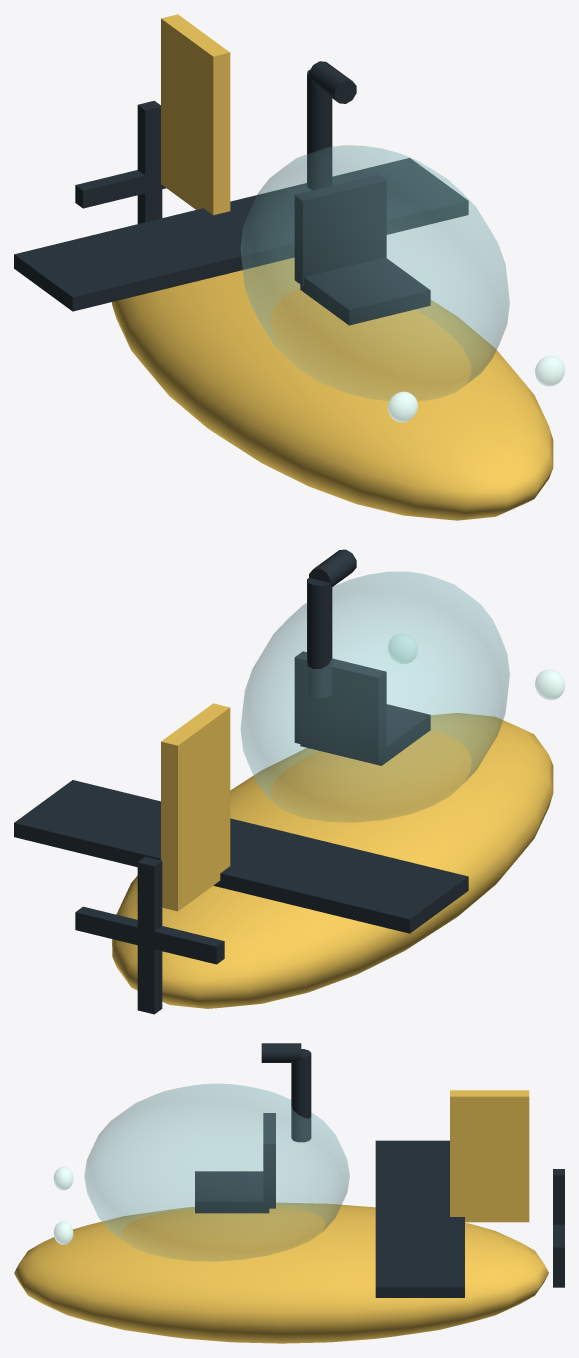
3 renders of one model, top to bottom at view 1: azimuth 30°, elevation 25°; view 2: azimuth 150°, elevation 25°; view 3: azimuth 270°, elevation 25°, orthographic. The views are drawn at different scales.
Parts seen in each view (by area): view 1: sub, rotor.0; view 2: sub, rotor.0; view 3: sub, rotor.0.
Boxes of the visible parts, x1,y1,x2,y2 form: sub: (14, 14, 564, 520); rotor.0: (75, 100, 165, 223); sub: (14, 549, 564, 1008); rotor.0: (75, 856, 224, 1014); sub: (14, 1043, 548, 1343); rotor.0: (553, 1169, 564, 1287).
Size of the model in its own units: 3.5 by 3.1 by 5.56.
